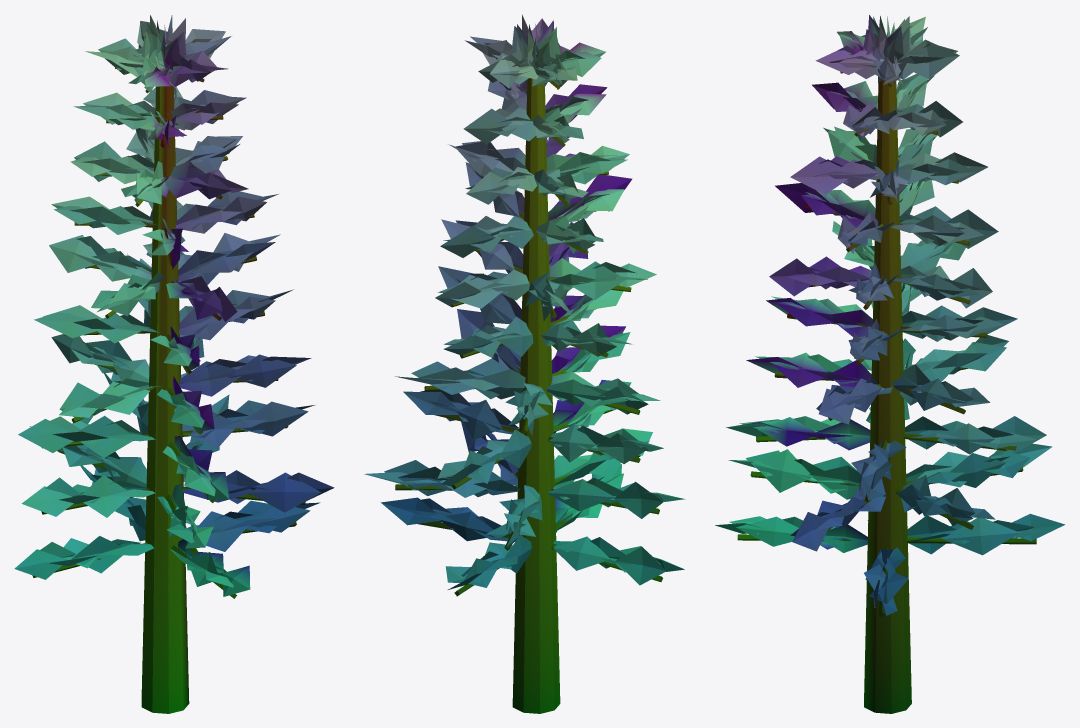
Rendered from mature_conifer_04.glb.
3 views of the same model, side by side, from view 1: azimuth 30°, elevation 25°; view 2: azimuth 150°, elevation 25°; view 3: azimuth 270°, elevation 25° (orthographic).
Visible parts, largest first — view 1: mature_conifer_04; view 2: mature_conifer_04; view 3: mature_conifer_04.
Boxes of the visible parts, bbox=[...] form: mature_conifer_04: bbox=[14, 15, 334, 713]; mature_conifer_04: bbox=[364, 14, 685, 713]; mature_conifer_04: bbox=[715, 15, 1065, 713].
Size of the model in its own units: 8.15 by 17.4 by 8.06.
